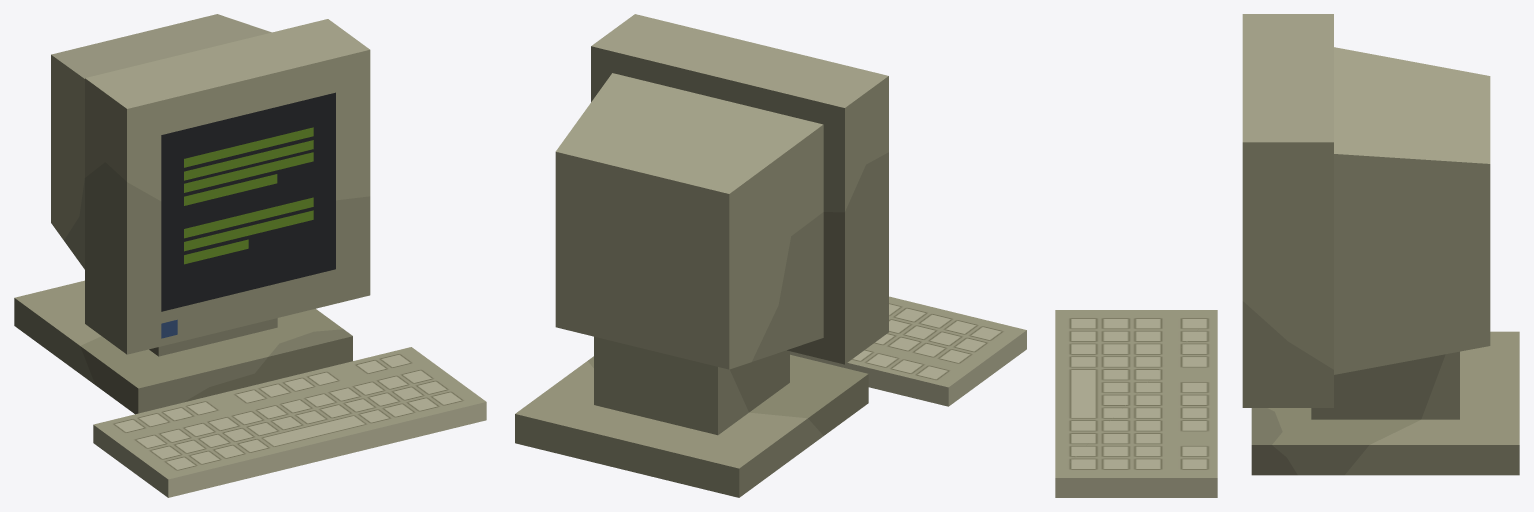
Rendered from AI_Prop_Computer_On.fbx.
3 renders of one model, left to right at view 1: azimuth 30°, elevation 25°; view 2: azimuth 150°, elevation 25°; view 3: azimuth 270°, elevation 25°, orthographic. The views are drawn at different scales.
Parts seen in each view (by area): view 1: AI_Prop_Computer_On; view 2: AI_Prop_Computer_On; view 3: AI_Prop_Computer_On.
Boxes of the visible parts, <box> form: AI_Prop_Computer_On: <box>14,14,486,497</box>; AI_Prop_Computer_On: <box>515,14,1026,497</box>; AI_Prop_Computer_On: <box>1055,14,1519,497</box>.
Bounding box in the file's own units: 1.19 × 1.13 × 1.4.
